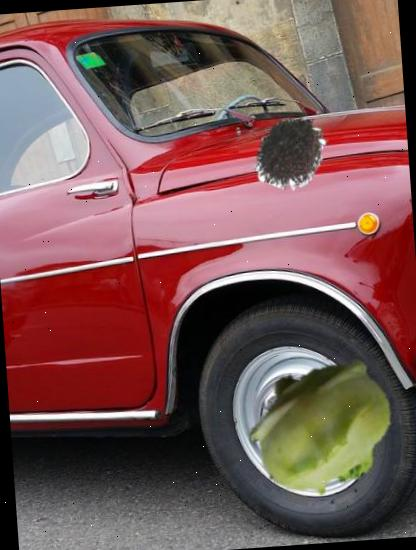Kohlrabi: (242, 347, 402, 506)
Rambutan: (252, 114, 331, 193)
